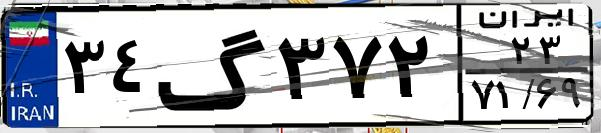1: (495, 70, 520, 125)
2: (385, 28, 445, 110), (508, 27, 537, 80)
3: (270, 28, 330, 110), (57, 26, 110, 100), (537, 27, 568, 80)
4: (110, 28, 156, 98)
6: (535, 70, 560, 125)
7: (330, 28, 385, 110), (470, 70, 495, 125)
9: (560, 70, 590, 125)
گ: (156, 12, 270, 120)
